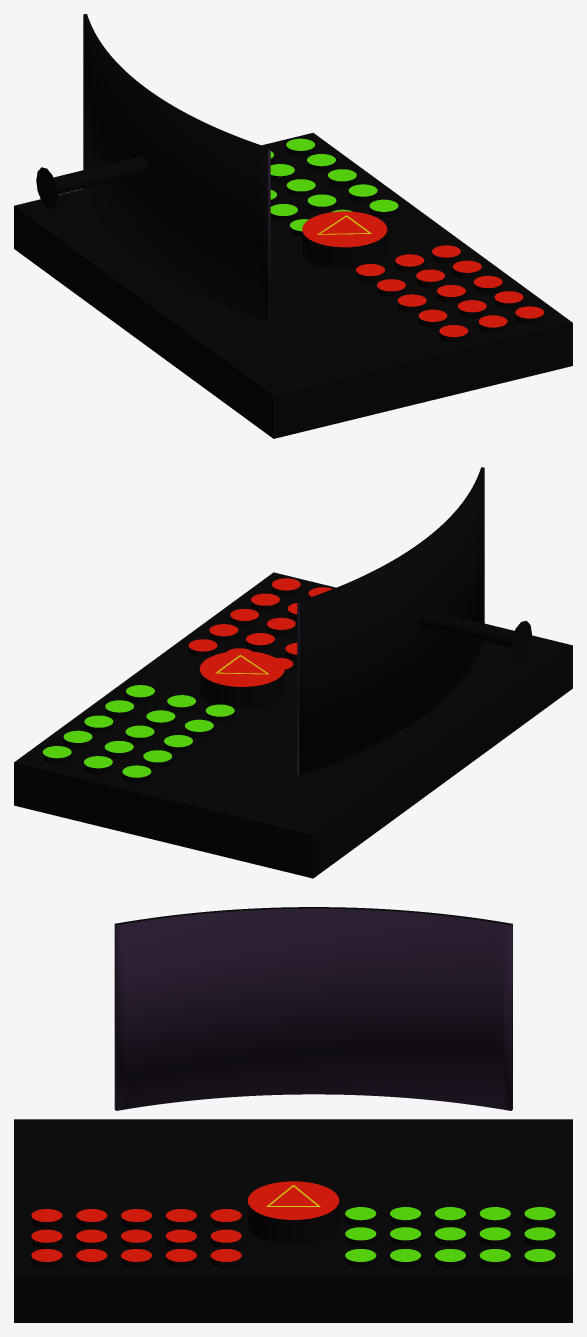
The model's file is control pannel3.fbx.
The picture shows the model from 3 angles, top to bottom: view 1: azimuth 30°, elevation 25°; view 2: azimuth 150°, elevation 25°; view 3: azimuth 270°, elevation 25°; orthographic projection. The views are drawn at different scales.
Parts seen in each view (by area): view 1: Cylinder.002, Connector to wall; view 2: Cylinder.002, Connector to wall; view 3: Cylinder.002, Connector to wall.
Boxes of the visible parts, x1=… form: Cylinder.002: x1=14, y1=133, x2=572, y2=438; Connector to wall: x1=36, y1=14, x2=270, y2=321; Cylinder.002: x1=14, y1=572, x2=572, y2=878; Connector to wall: x1=297, y1=467, x2=531, y2=775; Cylinder.002: x1=14, y1=1119, x2=572, y2=1322; Connector to wall: x1=114, y1=907, x2=512, y2=1110.
Bounding box in the file's own units: 429 × 260 × 499.
